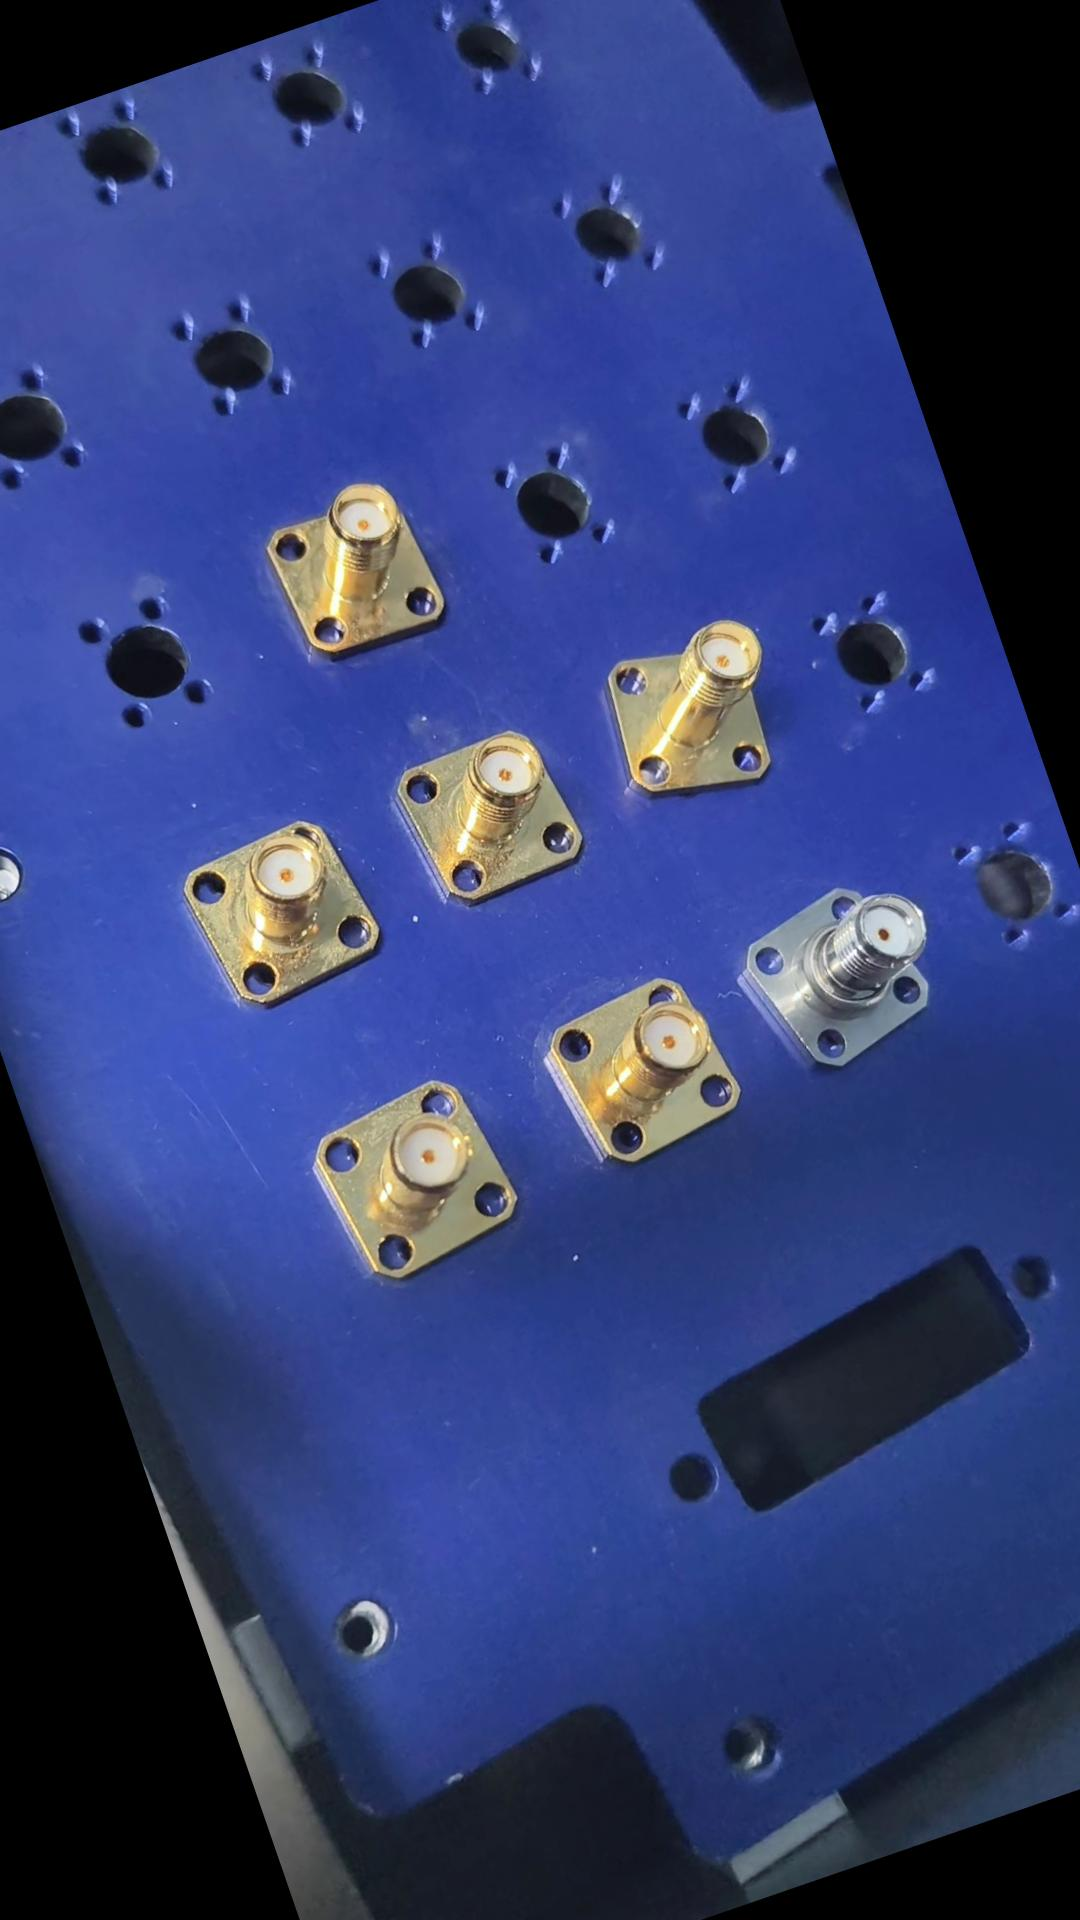SMA: (299, 1060, 542, 1303), (724, 862, 967, 1091), (533, 955, 758, 1182), (169, 800, 394, 1015), (589, 608, 808, 822), (382, 713, 595, 922), (249, 465, 462, 671)
